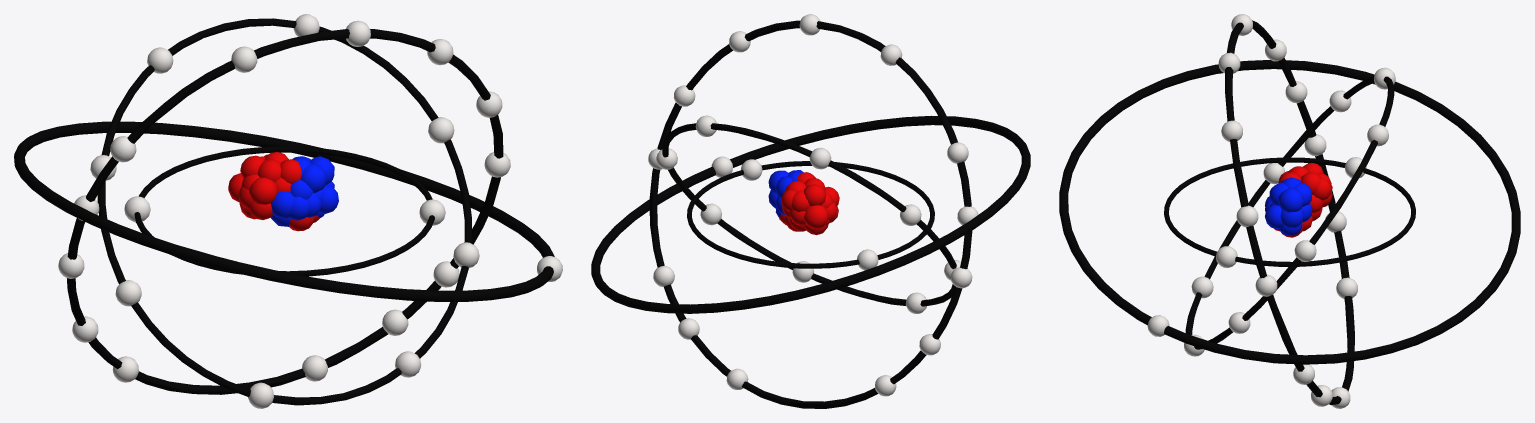
File: 24 Cromo.fbx
The picture shows the model from 3 angles, left to right: view 1: azimuth 30°, elevation 25°; view 2: azimuth 150°, elevation 25°; view 3: azimuth 270°, elevation 25°; orthographic projection. The views are drawn at different scales.
Parts seen in each view (by area): view 1: Orbita.004, Orbita.003, Orbita.002, Orbita.001, Neutron.006, Neutron.001, Sphere.013, Neutron.005, Electron.014, Electron.009, Electron.024, Electron.004 (+16 smaller); view 2: Orbita.004, Orbita.003, Orbita.002, Orbita.001, Neutron.005, Neutron.006; view 3: Orbita.004, Orbita.003, Orbita.002, Orbita.001, Neutron.006, Neutron.003.
Boxes of the visible parts, <box> form: Orbita.004: <box>14,121,554,301</box>; Orbita.003: <box>67,29,503,394</box>; Orbita.002: <box>97,18,471,405</box>; Orbita.001: <box>134,146,434,276</box>; Neutron.006: <box>292,156,334,193</box>; Neutron.001: <box>270,191,294,226</box>; Sphere.013: <box>249,177,277,204</box>; Neutron.005: <box>228,173,256,219</box>; Electron.014: <box>231,46,257,72</box>; Electron.009: <box>428,117,454,143</box>; Electron.024: <box>382,309,408,335</box>; Electron.004: <box>115,280,141,306</box>; Orbita.004: <box>591,115,1030,313</box>; Orbita.003: <box>649,20,972,408</box>; Orbita.002: <box>662,123,956,306</box>; Orbita.001: <box>687,161,934,268</box>; Neutron.005: <box>804,202,837,235</box>; Neutron.006: <box>768,170,803,198</box>; Orbita.004: <box>1059,60,1520,364</box>; Orbita.003: <box>1225,20,1354,404</box>; Orbita.002: <box>1185,76,1394,349</box>; Orbita.001: <box>1164,157,1415,266</box>; Neutron.006: <box>1269,182,1312,212</box>; Neutron.003: <box>1269,203,1312,236</box>.
Size of the model in its own units: 14.16 by 13.69 by 11.67.
